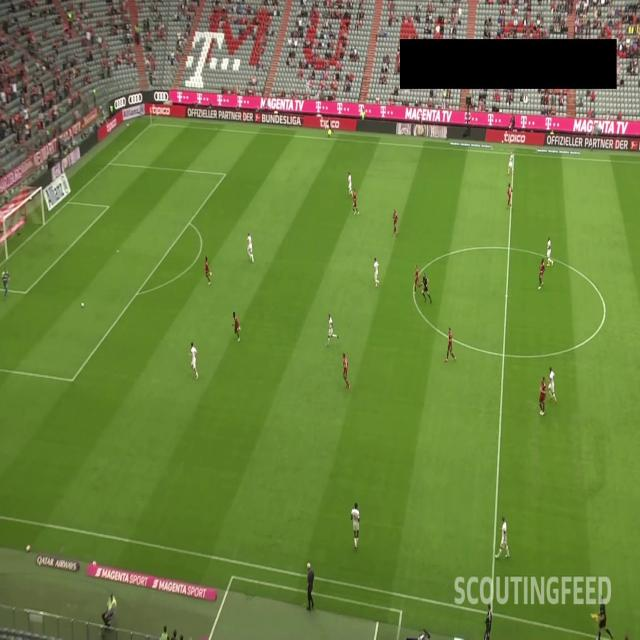ball: (78, 299, 87, 311)
player: (492, 509, 512, 562), (348, 496, 364, 554), (186, 340, 202, 382), (324, 308, 340, 348), (443, 322, 457, 367), (0, 262, 13, 304), (537, 373, 548, 421), (340, 348, 352, 391), (244, 228, 256, 268), (371, 252, 383, 291), (411, 260, 424, 296), (230, 309, 243, 343), (536, 256, 547, 290), (390, 205, 399, 244), (504, 147, 516, 176), (549, 366, 558, 403), (204, 254, 214, 286), (351, 186, 360, 219), (346, 163, 354, 198), (546, 235, 554, 269), (506, 182, 514, 210)
referee: (591, 594, 615, 640), (422, 274, 432, 306), (326, 112, 334, 140)
